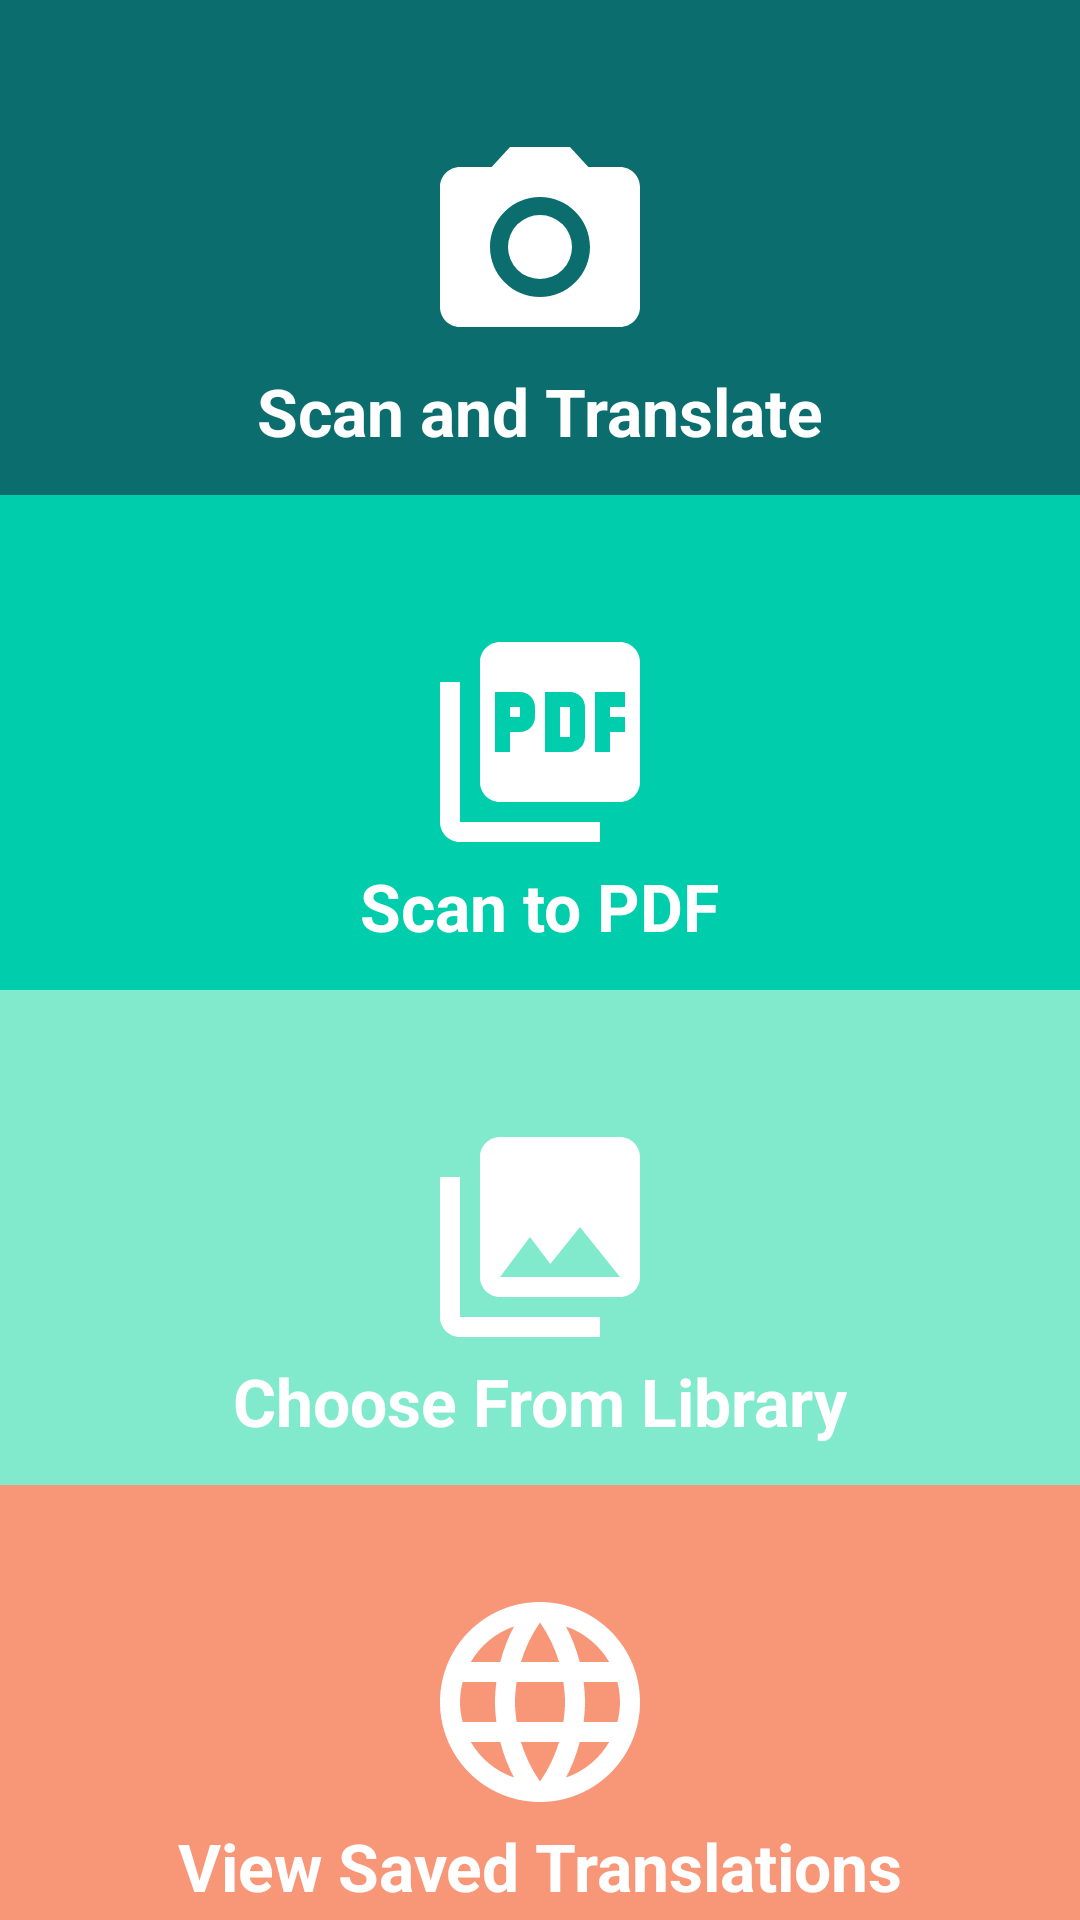

Screen size 1080 x 1920. Icon name, then its center in pixels as point (x, y):
album: point (540, 1237)
camera: point (540, 237)
world: point (540, 1702)
